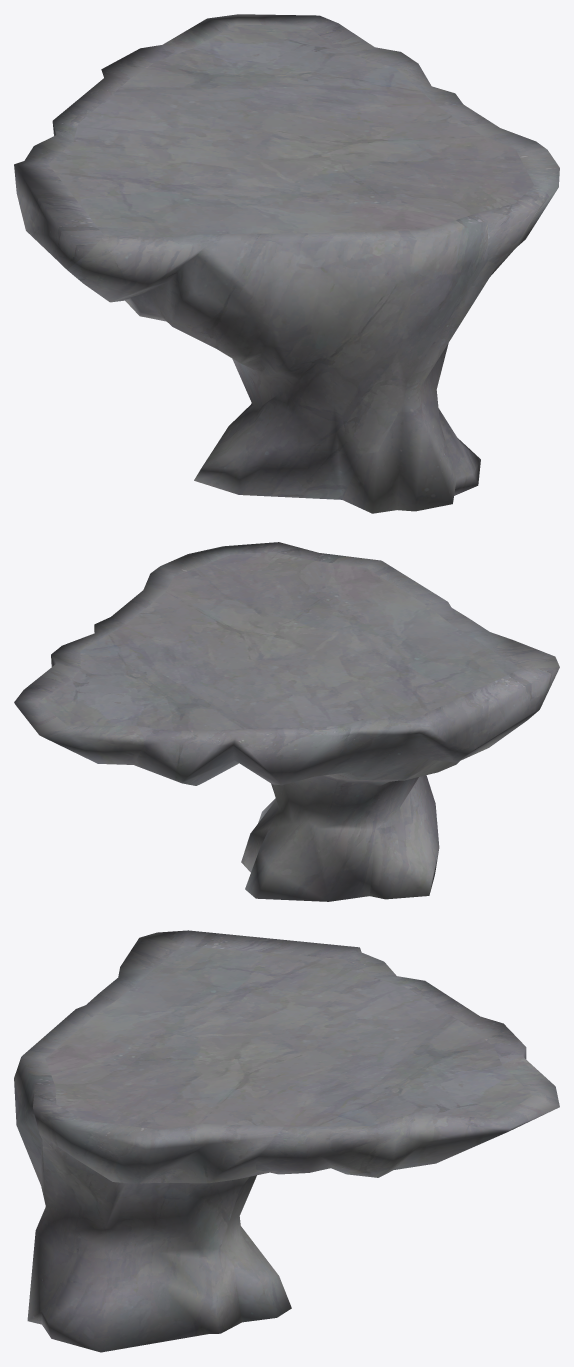
Rendered from Stages_MD_SDLStone09.fbx.
3 renders of one model, top to bottom at view 1: azimuth 30°, elevation 25°; view 2: azimuth 150°, elevation 25°; view 3: azimuth 270°, elevation 25°, orthographic. The views are drawn at different scales.
Parts seen in each view (by area): view 1: Stages_MD_SDLStone09_Lod1; view 2: Stages_MD_SDLStone09_Lod1; view 3: Stages_MD_SDLStone09_Lod1.
Boxes of the visible parts, x1,y1,x2,y2 form: Stages_MD_SDLStone09_Lod1: [14, 14, 559, 513]; Stages_MD_SDLStone09_Lod1: [14, 542, 559, 901]; Stages_MD_SDLStone09_Lod1: [14, 930, 559, 1352].
Size of the model in its own units: 43.08 by 24.69 by 47.54.
1 material, 1 textured.
